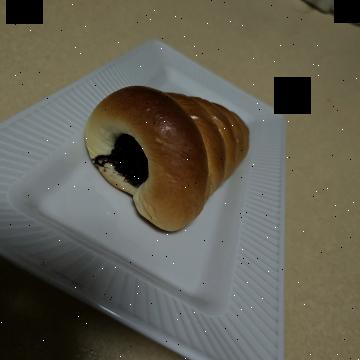cream horn: (80, 102, 258, 293)
